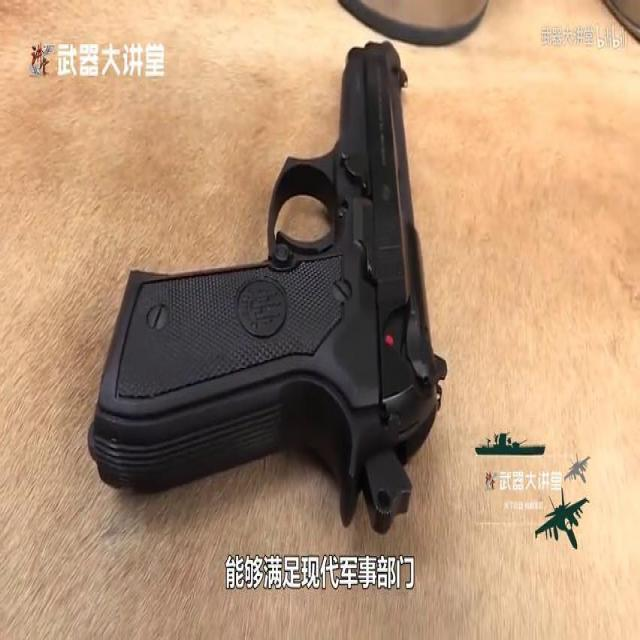Handgun: (86, 33, 469, 511)
